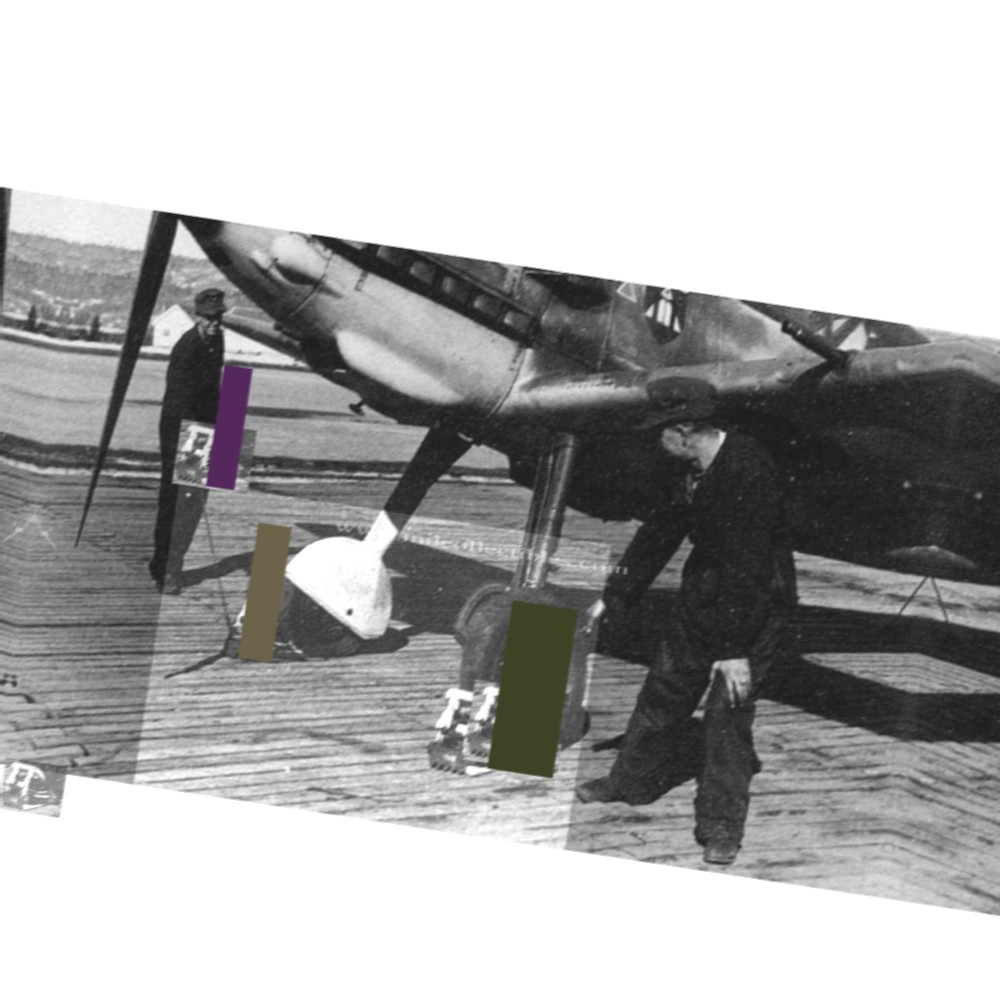chock: (422, 681, 546, 792), (463, 680, 569, 774), (215, 587, 310, 677), (171, 420, 256, 495), (0, 758, 67, 818)
wheel: (433, 574, 606, 762), (262, 519, 403, 666)
